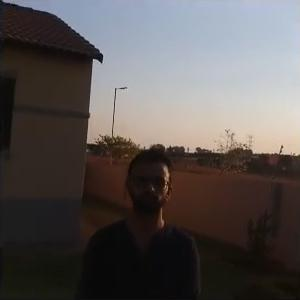follow: (70, 143, 202, 298)
